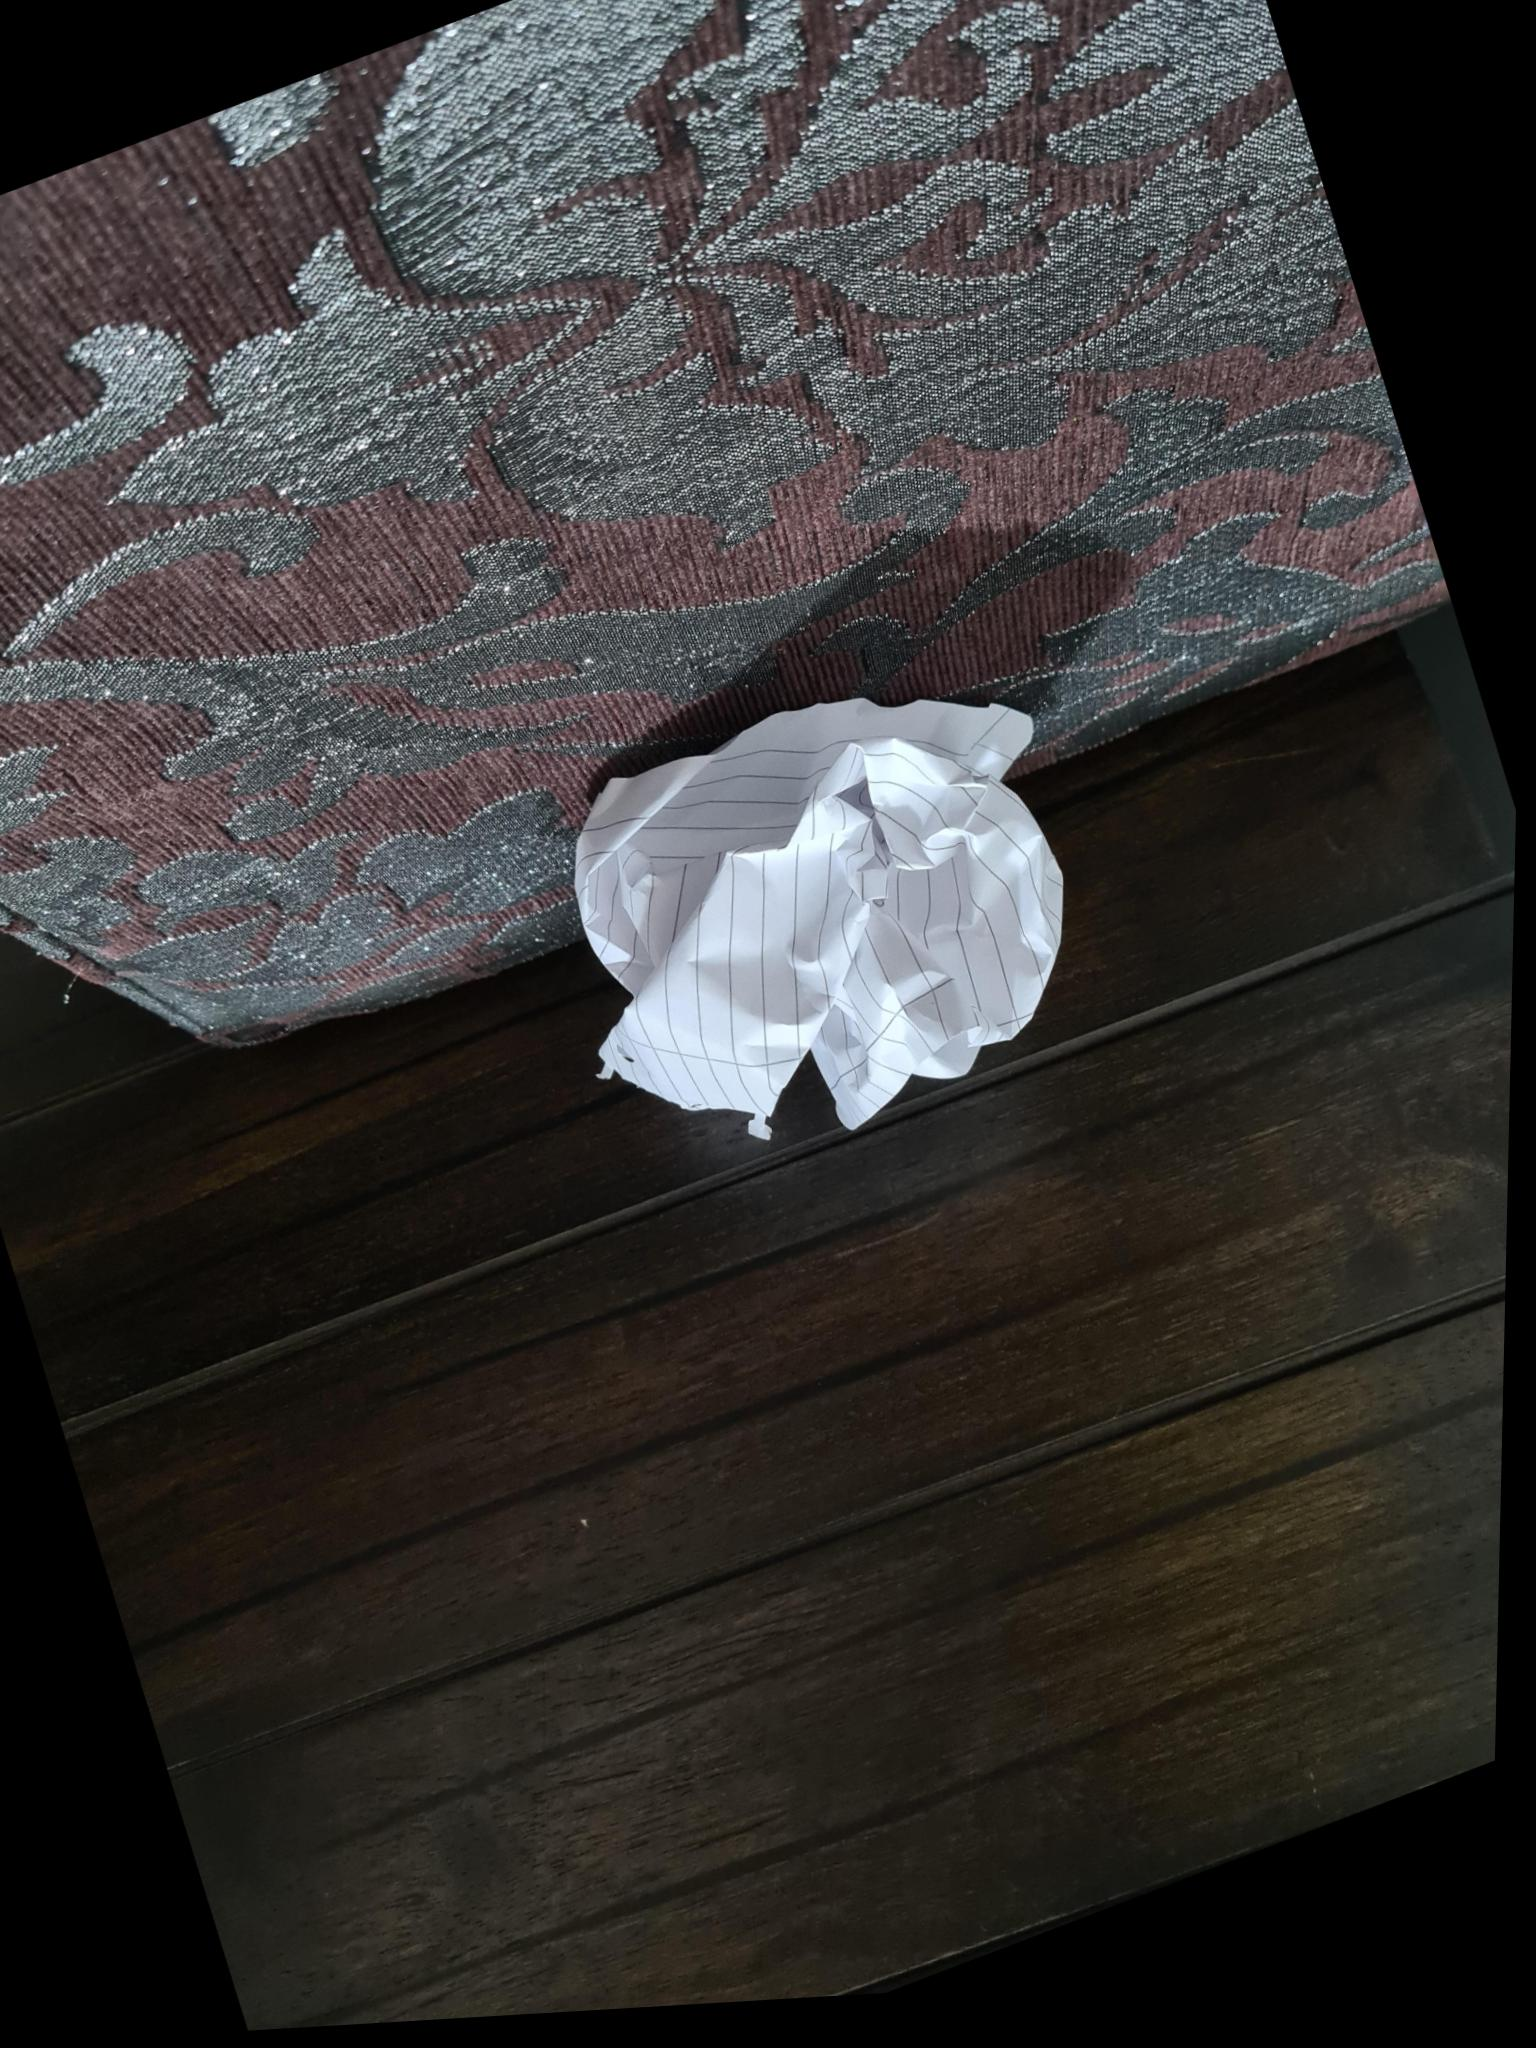paper: (574, 700, 1062, 1135)
